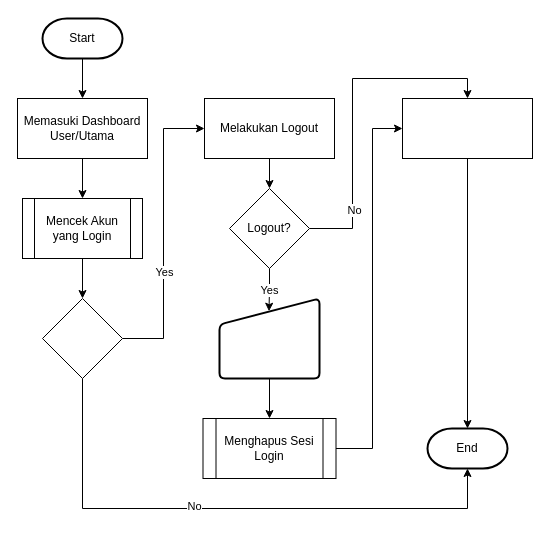
Some shapes in this 550 by 534 pixel diagram are drawn without their labels. The centre of each missing label's shape, as x and y in pixels:
"Memasuki Halaman Dashboard" belongs at point 467,128.
"Mengklik Tombol Logout" belongs at point 269,338.
"Sedang Login?" belongs at point 82,338.
